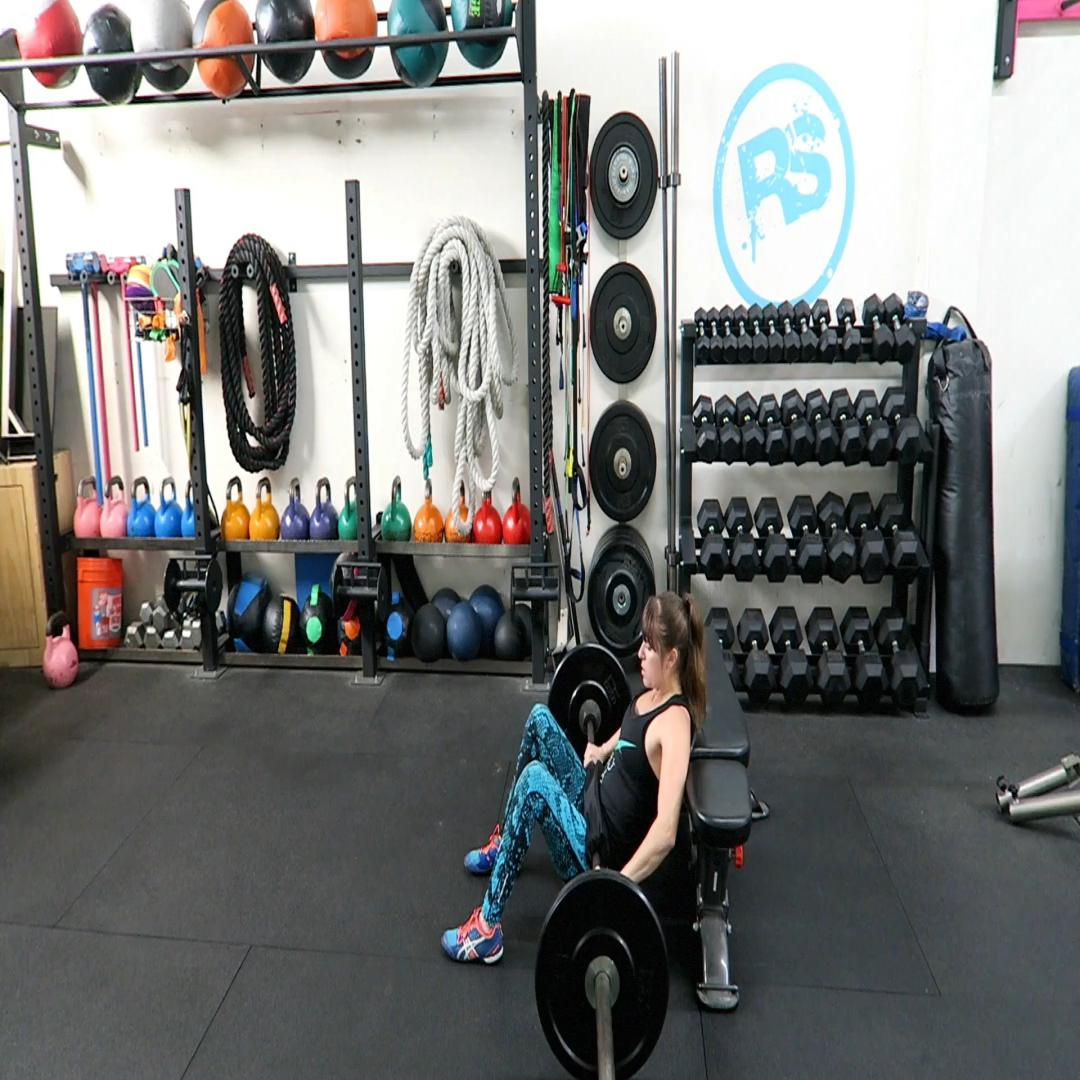Barbell: (534, 876, 670, 1079)
